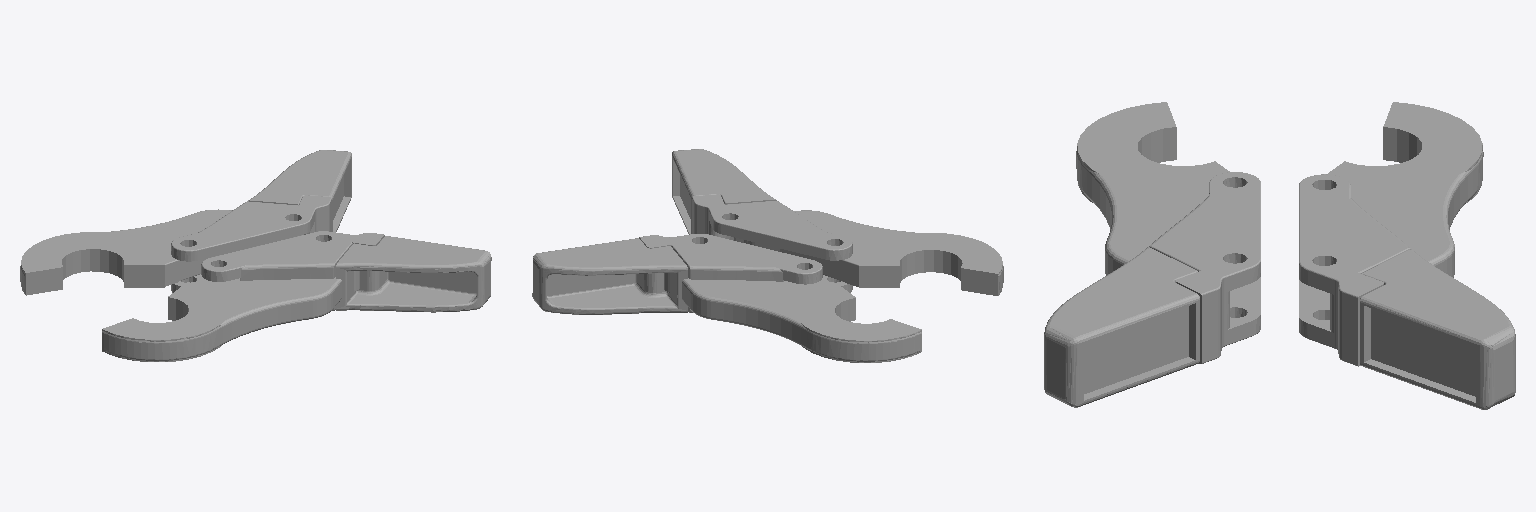
The robot description file, URDF, robot "mygripper_f100":
<?xml version="1.0" encoding="utf-8"?>
<!-- This URDF was automatically created by SolidWorks to URDF Exporter! Originally created by Stephen Brawner (brawner@gmail.com) 
     Commit Version: 1.6.0-4-g7f85cfe  Build Version: 1.6.7995.38578
     For more information, please see http://wiki.ros.org/sw_urdf_exporter -->
<robot
  name="mygripper_f100">
  <link
    name="f100_base_link">
    <inertial>
      <origin
        xyz="0.0439 0.001507 0.014638"
        rpy="0 0 0" />
      <mass
        value="0.251" />
      <inertia
        ixx="0.00024"
        ixy="2E-05"
        ixz="0.000144"
        iyy="0.000729"
        iyz="4.678E-06"
        izz="0.00071" />
    </inertial>
    <visual>
      <origin
        xyz="0 0 0"
        rpy="0 0 0" />
      <geometry>
        <mesh
          filename="package://mygripper_f100_description/meshes/f100_base_link.STL" />
      </geometry>
      <material
        name="">
        <color
          rgba="0.69804 0.69804 0.69804 1" />
      </material>
    </visual>
    <collision>
      <origin
        xyz="0 0 0"
        rpy="0 0 0" />
      <geometry>
        <mesh
          filename="package://mygripper_f100_description/meshes/f100_base_link.STL" />
      </geometry>
    </collision>
  </link>
  <link
    name="joint2_left_link">
    <inertial>
      <origin
        xyz="0.016477 -0.000609 5.1E-05"
        rpy="0 0 0" />
      <mass
        value="0.015" />
      <inertia
        ixx="2E-06"
        ixy="-9.61E-07"
        ixz="0"
        iyy="1.1E-05"
        iyz="0"
        izz="1.26E-05" />
    </inertial>
    <visual>
      <origin
        xyz="0 0 0"
        rpy="0 0 0" />
      <geometry>
        <mesh
          filename="package://mygripper_f100_description/meshes/J2_L_Link.STL" />
      </geometry>
      <material
        name="">
        <color
          rgba="0.69804 0.69804 0.69804 1" />
      </material>
    </visual>
    <collision>
      <origin
        xyz="0 0 0"
        rpy="0 0 0" />
      <geometry>
        <mesh
          filename="package://mygripper_f100_description/meshes/J2_L_Link.STL" />
      </geometry>
    </collision>
  </link>
  <joint
    name="joint2_left_joint"
    type="revolute">
    <origin
      xyz="0.056064 0.017111 0"
      rpy="0 0 0.00036257" />
    <parent
      link="f100_base_link" />
    <child
      link="joint2_left_link" />
    <axis
      xyz="0 0 -1" />
    <limit
      lower="-1.012"
      upper="0"
      effort="0"
      velocity="0" />
  </joint>
  <link
    name="joint3_left_link">
    <inertial>
      <origin
        xyz="0.004031 0.00831 -0.000115"
        rpy="0 0 0" />
      <mass
        value="0.017" />
      <inertia
        ixx="3.579E-06"
        ixy="-2E-06"
        ixz="2E-08"
        iyy="6.6E-06"
        iyz="-2.3E-08"
        izz="9.273E-06" />
    </inertial>
    <visual>
      <origin
        xyz="0 0 0"
        rpy="0 0 0" />
      <geometry>
        <mesh
          filename="package://mygripper_f100_description/meshes/J3_L_Link.STL" />
      </geometry>
      <material
        name="">
        <color
          rgba="0.69804 0.69804 0.69804 1" />
      </material>
    </visual>
    <collision>
      <origin
        xyz="0 0 0"
        rpy="0 0 0" />
      <geometry>
        <mesh
          filename="package://mygripper_f100_description/meshes/J3_L_Link.STL" />
      </geometry>
    </collision>
  </link>
  <joint
    name="joint3_left_joint"
    type="revolute">
    <origin
      xyz="0.059996 -0.0097778 -0.0005"
      rpy="0 0 0" />
    <parent
      link="joint2_left_link" />
    <child
      link="joint3_left_link" />
    <axis
      xyz="0 0 -1" />
    <limit
      lower="-1.012"
      upper="1.012"
      effort="0"
      velocity="0" />
    <mimic
      joint="joint2_left_joint"
      multiplier="-1"
      offset="0" />
  </joint>
  <link
    name="joint1_left_link">
    <inertial>
      <origin
        xyz="0.032595 -0.003043 0"
        rpy="0 0 0" />
      <mass
        value="0.006" />
      <inertia
        ixx="2.84E-07"
        ixy="-1.059E-06"
        ixz="0"
        iyy="8.28E-06"
        iyz="0"
        izz="8.52E-06" />
    </inertial>
    <visual>
      <origin
        xyz="0 0 0"
        rpy="0 0 0" />
      <geometry>
        <mesh
          filename="package://mygripper_f100_description/meshes/J1_L_Link.STL" />
      </geometry>
      <material
        name="">
        <color
          rgba="0.69804 0.69804 0.69804 1" />
      </material>
    </visual>
    <collision>
      <origin
        xyz="0 0 0"
        rpy="0 0 0" />
      <geometry>
        <mesh
          filename="package://mygripper_f100_description/meshes/J1_L_Link.STL" />
      </geometry>
    </collision>
  </link>
  <joint
    name="joint1_left_joint"
    type="revolute">
    <origin
      xyz="0.033748 0.043203 0"
      rpy="0 0 0.00036257" />
    <parent
      link="f100_base_link" />
    <child
      link="joint1_left_link" />
    <axis
      xyz="0 0 -1" />
    <limit
      lower="-1.012"
      upper="1.012"
      effort="0"
      velocity="0" />
    <mimic
      joint="joint2_left_joint"
      multiplier="1"
      offset="0" />
  </joint>
  <link
    name="joint2_right_link">
    <inertial>
      <origin
        xyz="0.019829 0.000952 -0.000143"
        rpy="0 0 0" />
      <mass
        value="0.013" />
      <inertia
        ixx="1.239E-06"
        ixy="9.88E-07"
        ixz="0"
        iyy="1.1158E-05"
        iyz="0"
        izz="1.2285E-05" />
    </inertial>
    <visual>
      <origin
        xyz="0 0 0"
        rpy="0 0 0" />
      <geometry>
        <mesh
          filename="package://mygripper_f100_description/meshes/J2_R_Link.STL" />
      </geometry>
      <material
        name="">
        <color
          rgba="0.69804 0.69804 0.69804 1" />
      </material>
    </visual>
    <collision>
      <origin
        xyz="0 0 0"
        rpy="0 0 0" />
      <geometry>
        <mesh
          filename="package://mygripper_f100_description/meshes/J2_R_Link.STL" />
      </geometry>
    </collision>
  </link>
  <joint
    name="joint2_right_joint"
    type="revolute">
    <origin
      xyz="0.056064 -0.019509 0"
      rpy="0 0 0" />
    <parent
      link="f100_base_link" />
    <child
      link="joint2_right_link" />
    <axis
      xyz="0 0 -1" />
    <limit
      lower="-1.012"
      upper="1.012"
      effort="0"
      velocity="0" />
    <mimic
      joint="joint2_left_joint"
      multiplier="-1"
      offset="0" />
  </joint>
  <link
    name="joint3_right_link">
    <inertial>
      <origin
        xyz="0.004379 -0.008394 -7.5E-05"
        rpy="0 0 0" />
      <mass
        value="0.018" />
      <inertia
        ixx="3.659E-06"
        ixy="1.93E-06"
        ixz="1.1E-08"
        iyy="6.726E-06"
        iyz="1.2E-08"
        izz="9.479E-06" />
    </inertial>
    <visual>
      <origin
        xyz="0 0 0"
        rpy="0 0 0" />
      <geometry>
        <mesh
          filename="package://mygripper_f100_description/meshes/J3_R_Link.STL" />
      </geometry>
      <material
        name="">
        <color
          rgba="0.69804 0.69804 0.69804 1" />
      </material>
    </visual>
    <collision>
      <origin
        xyz="0 0 0"
        rpy="0 0 0" />
      <geometry>
        <mesh
          filename="package://mygripper_f100_description/meshes/J3_R_Link.STL" />
      </geometry>
    </collision>
  </link>
  <joint
    name="joint3_right_joint"
    type="revolute">
    <origin
      xyz="0.06 0.009756 0"
      rpy="0 0 0" />
    <parent
      link="joint2_right_link" />
    <child
      link="joint3_right_link" />
    <axis
      xyz="0 0 -1" />
    <limit
      lower="-1.012"
      upper="1.012"
      effort="0"
      velocity="0" />
    <mimic
      joint="joint2_left_joint"
      multiplier="1"
      offset="0" />
  </joint>
  <link
    name="joint1_right_link">
    <inertial>
      <origin
        xyz="0.032592 0.003077 5E-05"
        rpy="0 0 0" />
      <mass
        value="0.006" />
      <inertia
        ixx="2.87E-07"
        ixy="1.067E-06"
        ixz="1E-08"
        iyy="8.278E-06"
        iyz="1E-09"
        izz="8.52E-06" />
    </inertial>
    <visual>
      <origin
        xyz="0 0 0"
        rpy="0 0 0" />
      <geometry>
        <mesh
          filename="package://mygripper_f100_description/meshes/J1_R_Link.STL" />
      </geometry>
      <material
        name="">
        <color
          rgba="0.69804 0.69804 0.69804 1" />
      </material>
    </visual>
    <collision>
      <origin
        xyz="0 0 0"
        rpy="0 0 0" />
      <geometry>
        <mesh
          filename="package://mygripper_f100_description/meshes/J1_R_Link.STL" />
      </geometry>
    </collision>
  </link>
  <joint
    name="joint1_right_joint"
    type="revolute">
    <origin
      xyz="0.033748 -0.045581 0"
      rpy="0 0 0" />
    <parent
      link="f100_base_link" />
    <child
      link="joint1_right_link" />
    <axis
      xyz="0 0 -1" />
    <limit
      lower="-1.012"
      upper="1.012"
      effort="0"
      velocity="0" />
    <mimic
      joint="joint2_left_joint"
      multiplier="-1"
      offset="0" />
  </joint>
</robot>

--- Facts derived from the render (not from the file) ---
Views: 3 orthographic renders of the robot side by side, from view 1: azimuth 30°, elevation 25°; view 2: azimuth 150°, elevation 25°; view 3: azimuth 270°, elevation 25°.
Robot: mygripper_f100 — 7 links, 6 joints (6 revolute); root link f100_base_link; default pose: all joints at 0.
Visible links, largest first — view 1: joint3_right_link, joint2_right_link, joint3_left_link, joint2_left_link; view 2: joint3_left_link, joint2_left_link, joint3_right_link, joint2_right_link; view 3: joint3_right_link, joint3_left_link, joint2_left_link, joint2_right_link.
Boxes of the visible links, box(x1,y1,x2,y2) form: joint3_right_link: box(201, 231, 491, 312); joint2_right_link: box(102, 271, 359, 361); joint3_left_link: box(171, 150, 351, 292); joint2_left_link: box(20, 209, 288, 295); joint3_left_link: box(532, 234, 822, 314); joint2_left_link: box(664, 273, 921, 362); joint3_right_link: box(672, 149, 852, 292); joint2_right_link: box(734, 210, 1003, 295); joint3_right_link: box(1044, 172, 1260, 407); joint3_left_link: box(1299, 174, 1515, 409); joint2_left_link: box(1328, 102, 1483, 277); joint2_right_link: box(1076, 102, 1229, 275).
Bounding box of the posed robot: 0.1168 × 0.0899 × 0.0153 m (x, y, z).
4 mesh visuals loaded from 7 distinct referenced files (4 binary STL); not drawn: 3 (reference not matched to a file when rendering).
